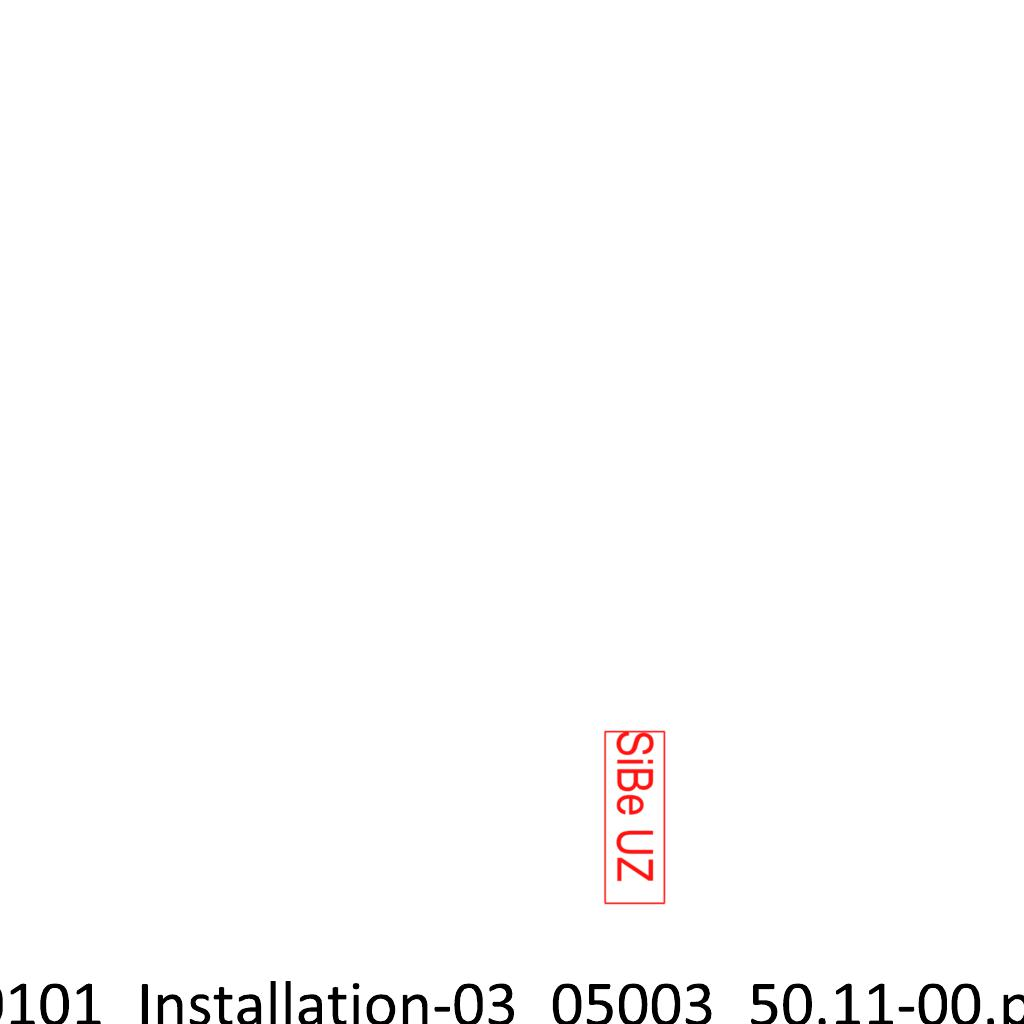Zentrale_Sicherheitsbeleuchtung: (602, 729, 667, 907)
